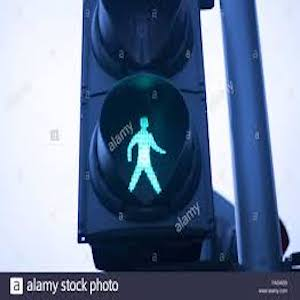green: (114, 114, 169, 197)
